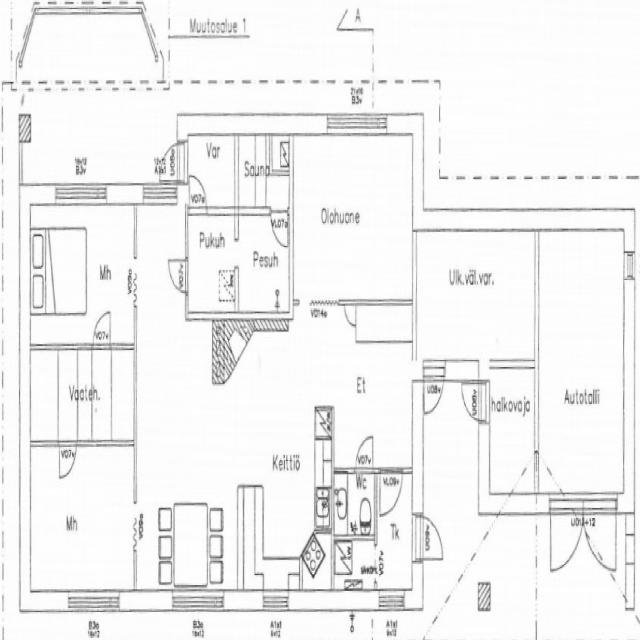door: (583, 494, 616, 576), (551, 494, 583, 576), (412, 516, 446, 558), (458, 382, 490, 420), (424, 360, 444, 418), (159, 144, 188, 180), (380, 468, 402, 515), (189, 176, 206, 214), (168, 261, 188, 292), (271, 208, 287, 245), (60, 439, 76, 476), (94, 312, 110, 349), (356, 437, 372, 474)
